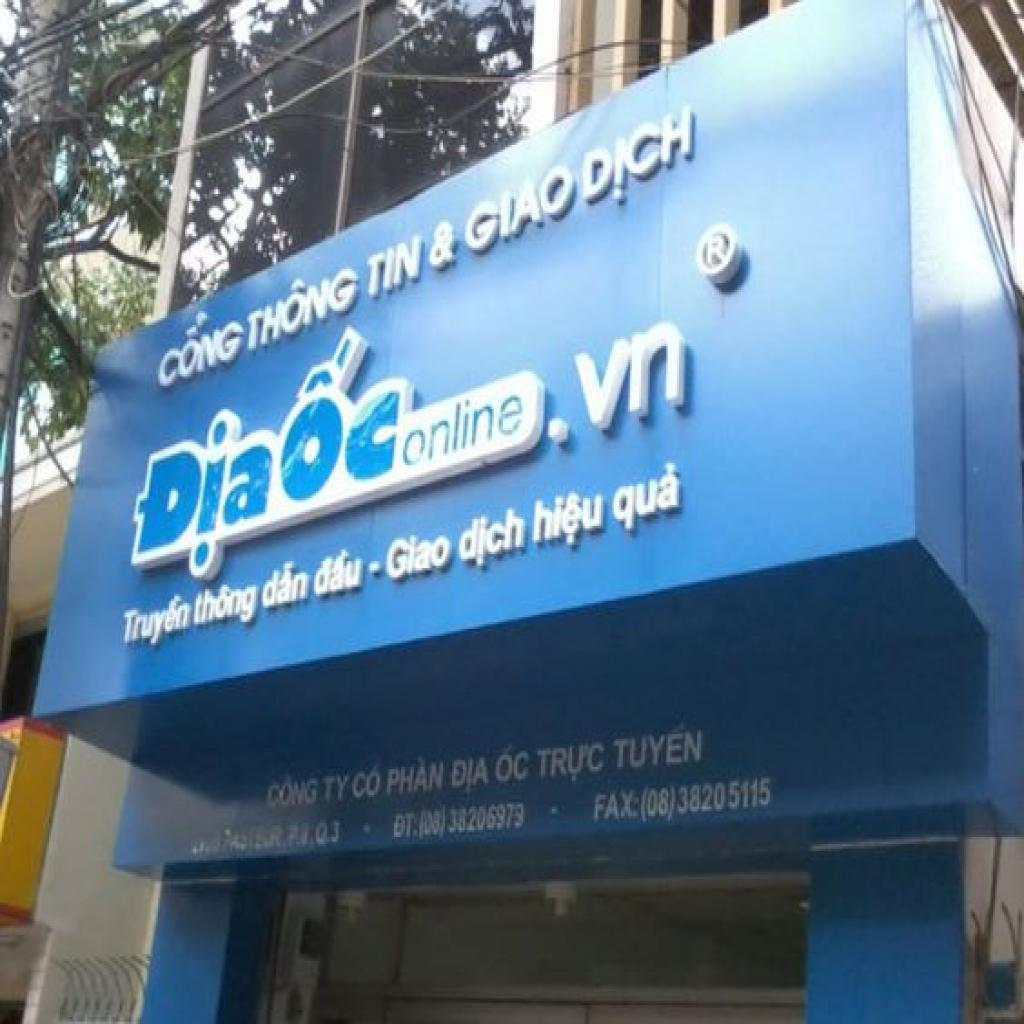text: (122, 201, 684, 596), (581, 103, 694, 217), (245, 252, 361, 356), (464, 159, 576, 262), (154, 292, 249, 395), (610, 456, 685, 538), (530, 482, 608, 556), (418, 797, 528, 844), (118, 589, 194, 657), (612, 716, 704, 772), (458, 502, 530, 572), (189, 572, 263, 640), (365, 231, 425, 304), (385, 524, 456, 584), (536, 739, 608, 788), (385, 750, 448, 802), (312, 542, 365, 601), (260, 556, 312, 610), (265, 769, 321, 811), (446, 755, 494, 797), (592, 786, 643, 825), (494, 739, 532, 788), (426, 215, 458, 271), (349, 762, 385, 804), (320, 772, 354, 806), (390, 809, 422, 842), (314, 818, 345, 849), (705, 234, 728, 269)
